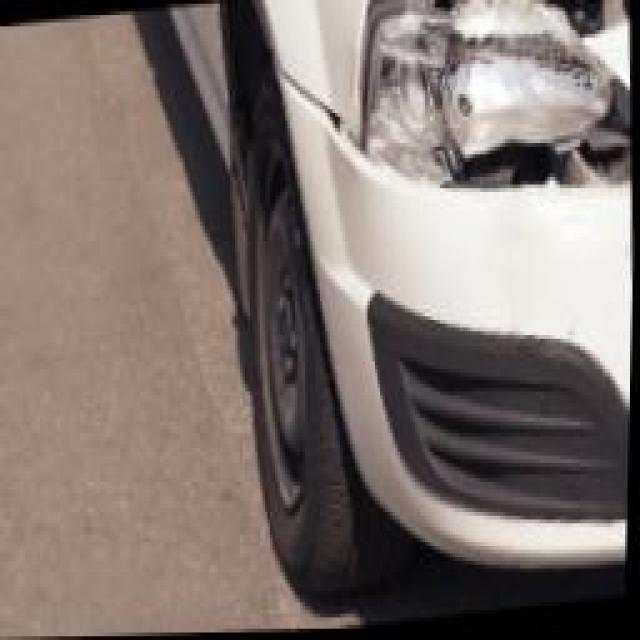Light: (358, 0, 634, 209)
